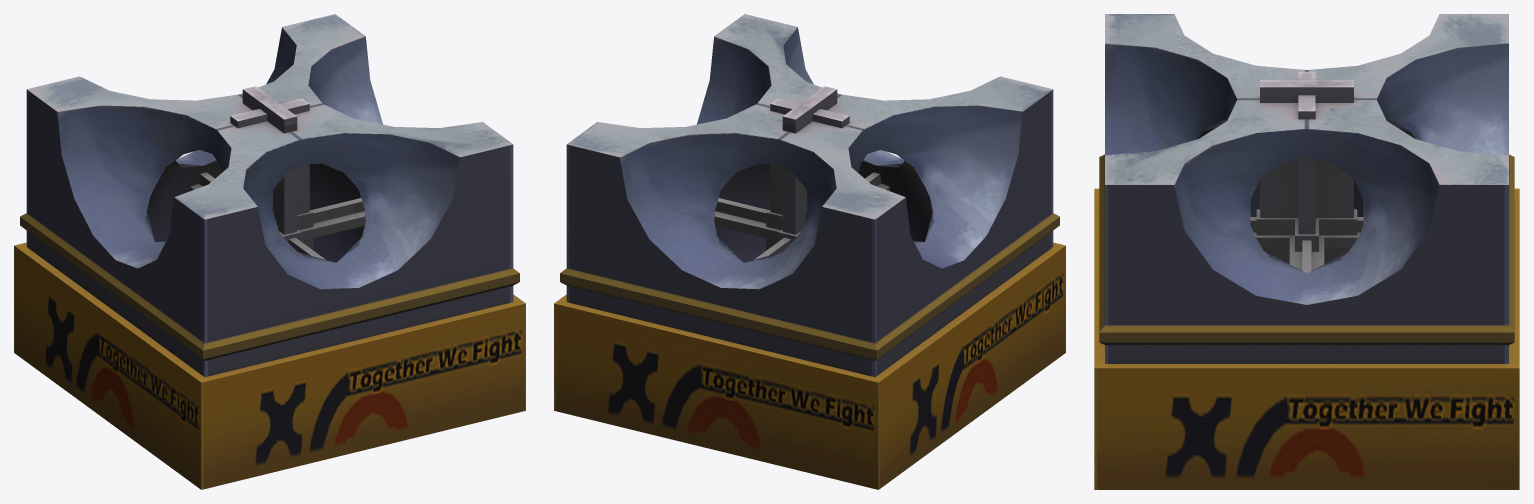
Rendered from trap_208_mufrst2.fbx.
3 views of the same model, side by side, from view 1: azimuth 30°, elevation 25°; view 2: azimuth 150°, elevation 25°; view 3: azimuth 270°, elevation 25° (orthographic). The views are drawn at different scales.
Parts seen in each view (by area): view 1: trap_208_mufrst2; view 2: trap_208_mufrst2; view 3: trap_208_mufrst2.
Part boxes in pixels (x1,y1,x2,y2): trap_208_mufrst2: (14,14,525,489); trap_208_mufrst2: (554,14,1065,489); trap_208_mufrst2: (1094,14,1519,489).
Bounding box in the file's own units: 1 × 0.8212 × 1.
Materials: 1 (1 with a texture image).
